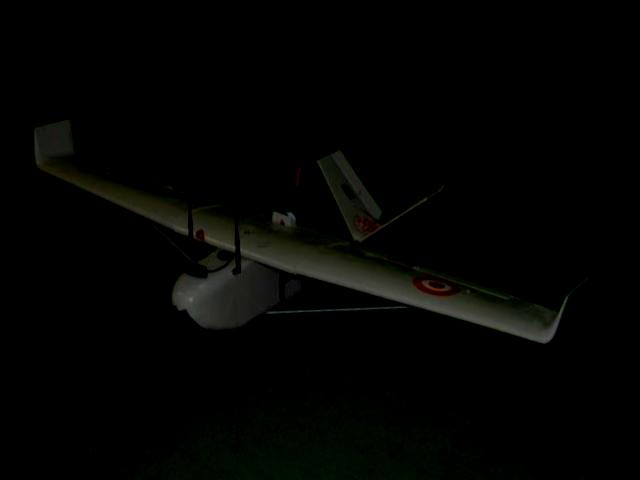iha: (19, 69, 616, 390)
